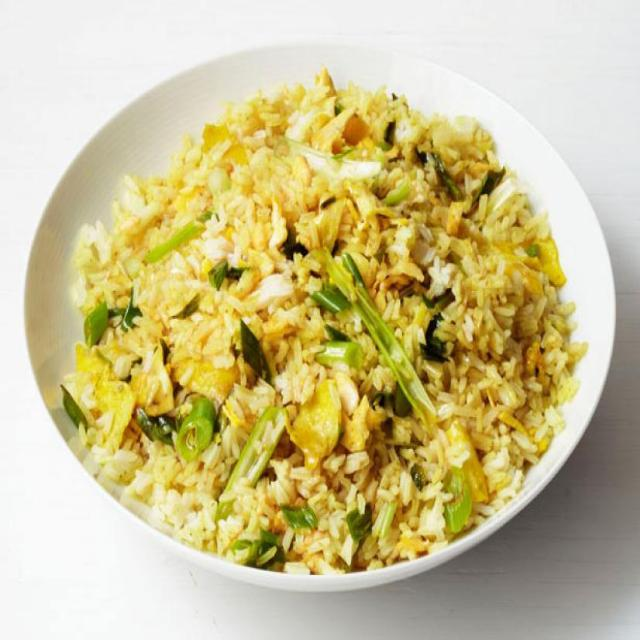Nasi Goreng: (59, 65, 588, 575)
